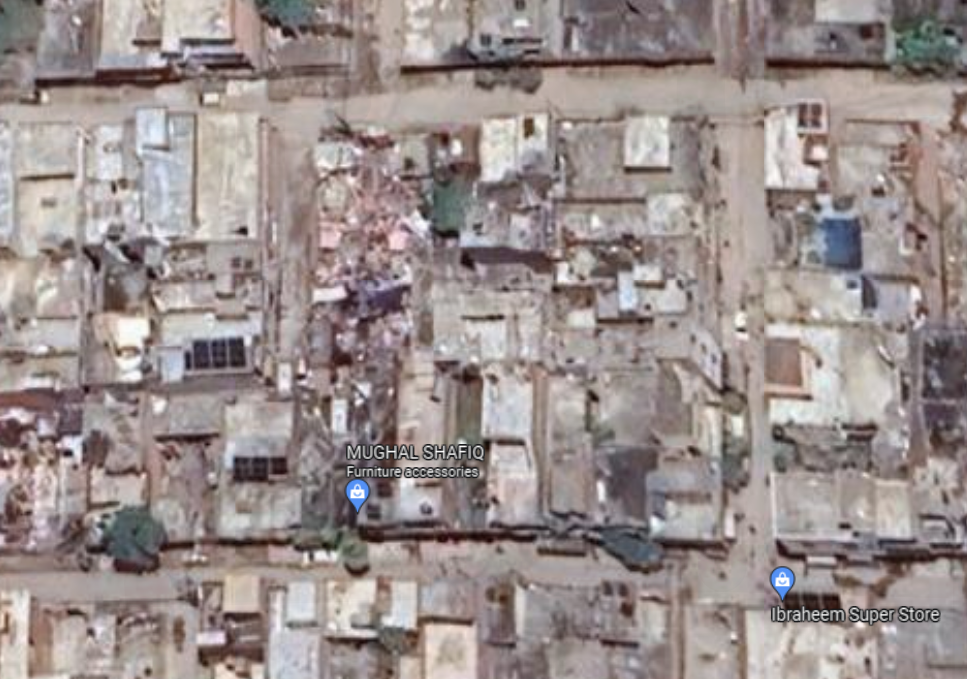solar-panel: (191, 335, 249, 367), (235, 450, 290, 482)
